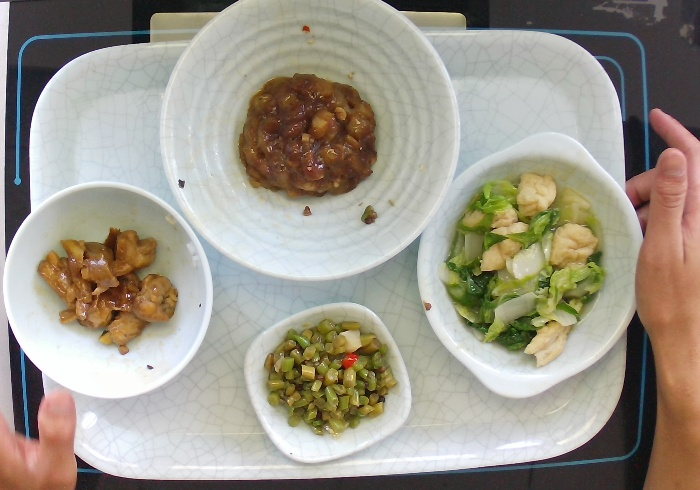JYsf-Fan_Wan: (1, 175, 218, 401)
JYsf-Shuang_Er_Wan: (408, 128, 645, 402)
JYsf-Si_Fang_Die: (238, 300, 415, 472)
JYsf-Xiao_Tang_Wan: (152, 1, 462, 284)
